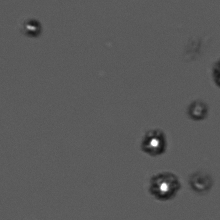Dead Cell: (186, 96, 210, 124), (190, 167, 212, 193)
Living Cell: (136, 125, 172, 158), (145, 169, 181, 202), (19, 16, 47, 38)
